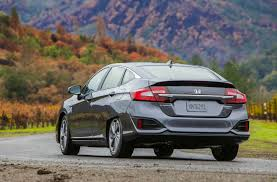Honda: (57, 60, 249, 162)
